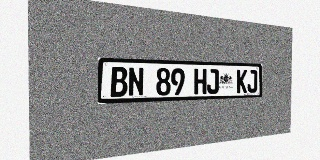8: (156, 68, 171, 96)
9: (171, 68, 185, 95)
B: (110, 67, 127, 97)
H: (194, 69, 207, 94)
J: (207, 69, 219, 94), (247, 70, 257, 93)
K: (237, 70, 247, 93)
N: (128, 67, 144, 96)
